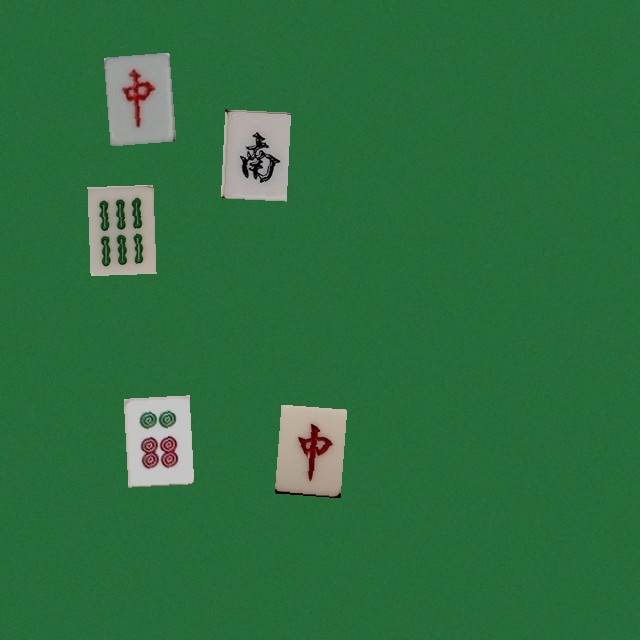tile: (87, 184, 153, 273), (123, 395, 189, 484), (220, 109, 286, 198), (103, 52, 169, 141), (274, 404, 340, 493)
